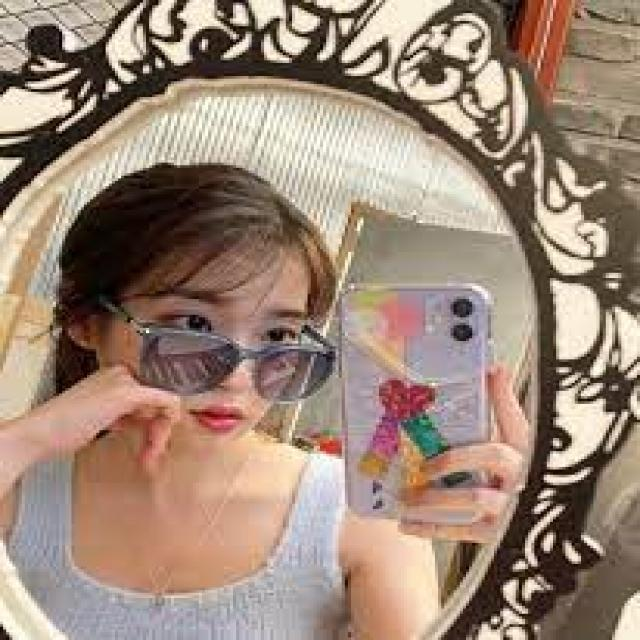Phone: (339, 279, 495, 527)
